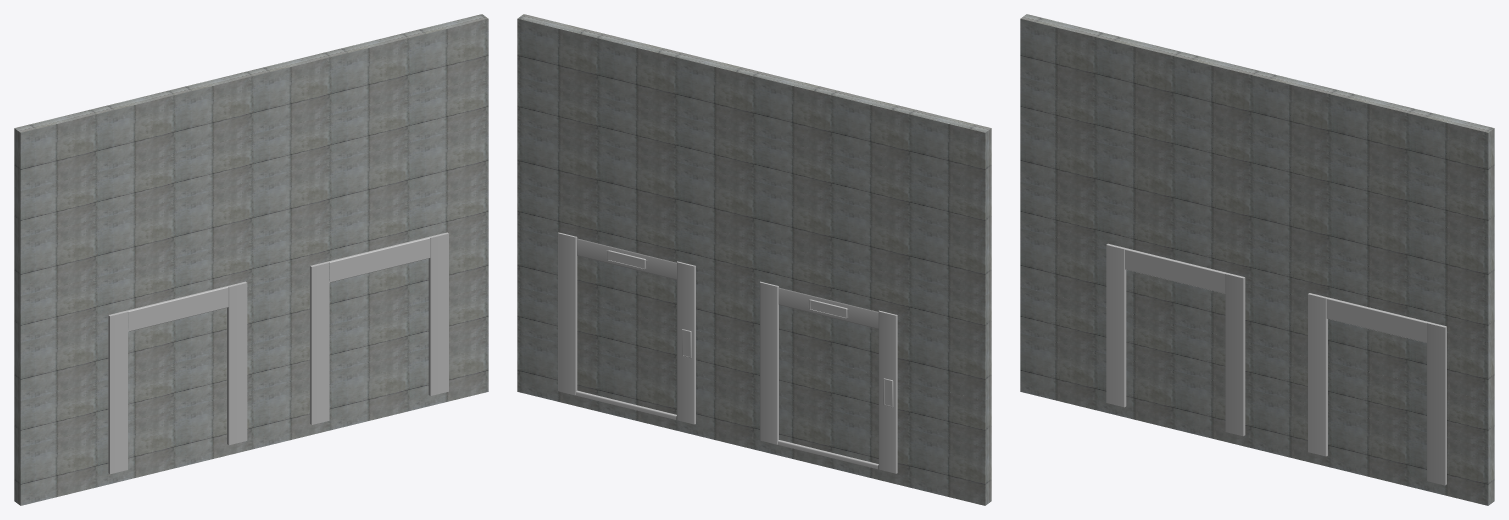
Rendered from menuWall.fbx.
3 renders of one model, left to right at view 1: azimuth 30°, elevation 25°; view 2: azimuth 150°, elevation 25°; view 3: azimuth 330°, elevation 25°, orthographic.
Visible parts, largest first — view 1: LowWall__68_, BASE, BASE_2; view 2: LowWall__68_, BASE_2, BASE; view 3: LowWall__68_, BASE, BASE_2.
Part boxes in pixels (bbox=[...]): LowWall__68_: bbox=[14, 14, 488, 505]; BASE: bbox=[108, 281, 247, 474]; BASE_2: bbox=[310, 232, 448, 424]; LowWall__68_: bbox=[517, 14, 991, 505]; BASE_2: bbox=[558, 232, 695, 424]; BASE: bbox=[760, 281, 897, 473]; LowWall__68_: bbox=[1020, 14, 1494, 505]; BASE: bbox=[1106, 243, 1245, 436]; BASE_2: bbox=[1308, 293, 1446, 485].
Bounding box in the file's own units: 4200 × 3200 × 149.
